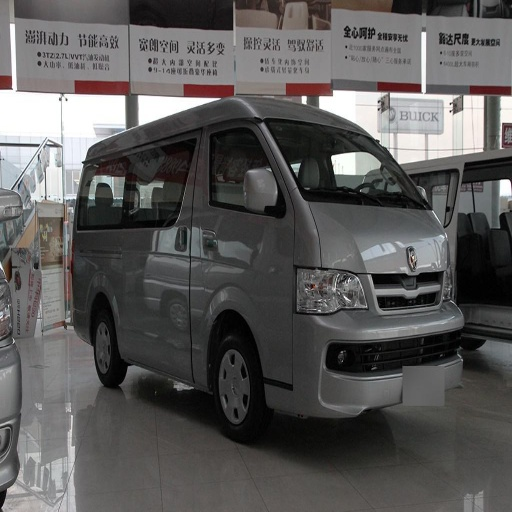front_bumper: (273, 271, 463, 418)
front_right_door: (192, 124, 294, 266)
front_right_light: (299, 268, 367, 314)
trunk: (70, 228, 191, 345)
